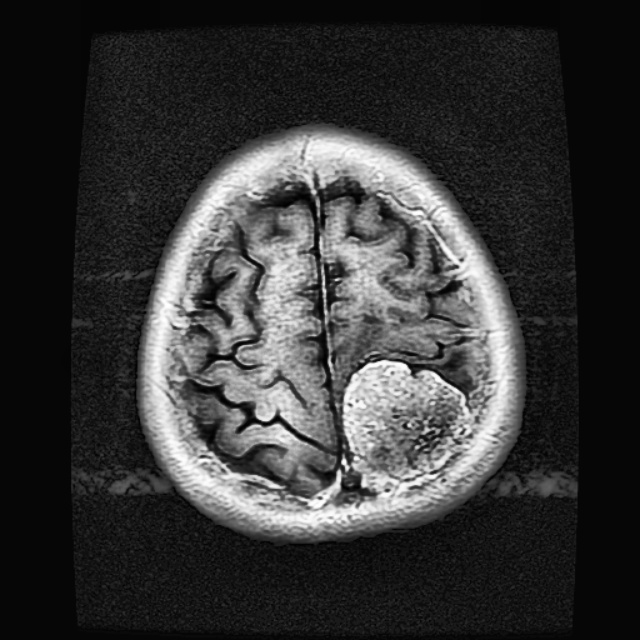Glioma: (343, 359, 468, 493)
